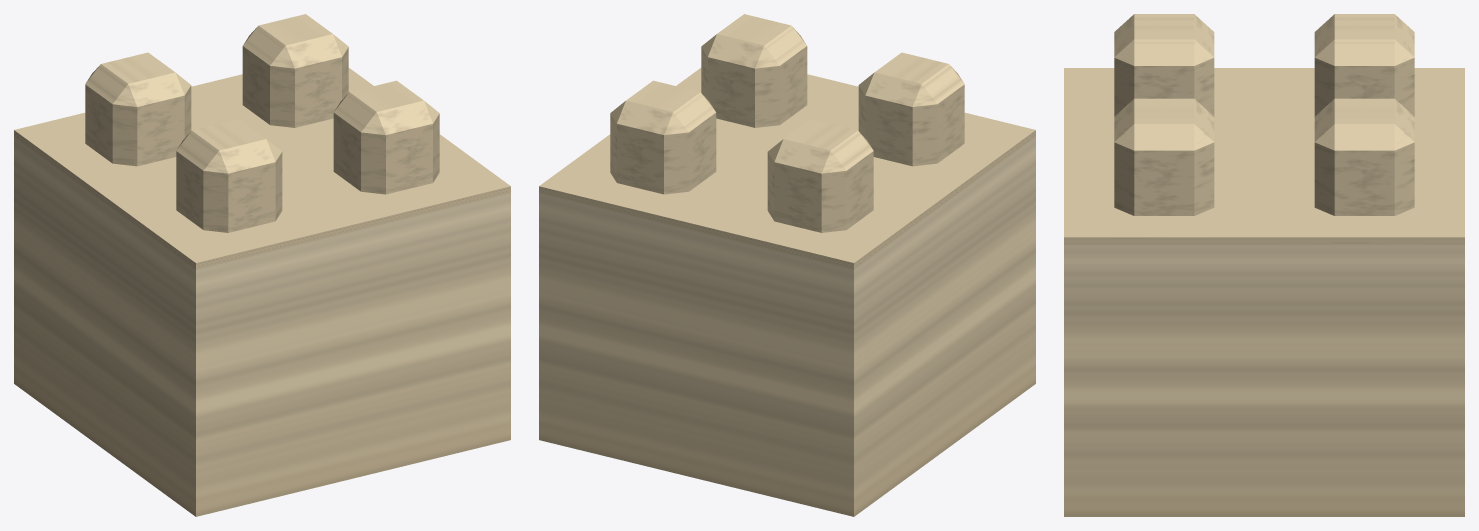
3 renders of one model, left to right at view 1: azimuth 30°, elevation 25°; view 2: azimuth 150°, elevation 25°; view 3: azimuth 270°, elevation 25°, orthographic. The views are drawn at different scales.
Parts seen in each view (by area): view 1: wall, merlons, deck; view 2: wall, merlons, deck; view 3: wall, deck, merlons.
Part boxes in pixels (x1,y1,x2,y2): wall: (14, 137, 510, 516); merlons: (85, 14, 439, 232); deck: (14, 68, 510, 269); wall: (539, 137, 1035, 516); merlons: (610, 14, 964, 232); deck: (539, 68, 1035, 269); wall: (1064, 244, 1464, 516); deck: (1064, 68, 1464, 244); merlons: (1114, 14, 1414, 215).
Size of the model in its own units: 1 by 1 by 1.
3 materials, 3 textured.
